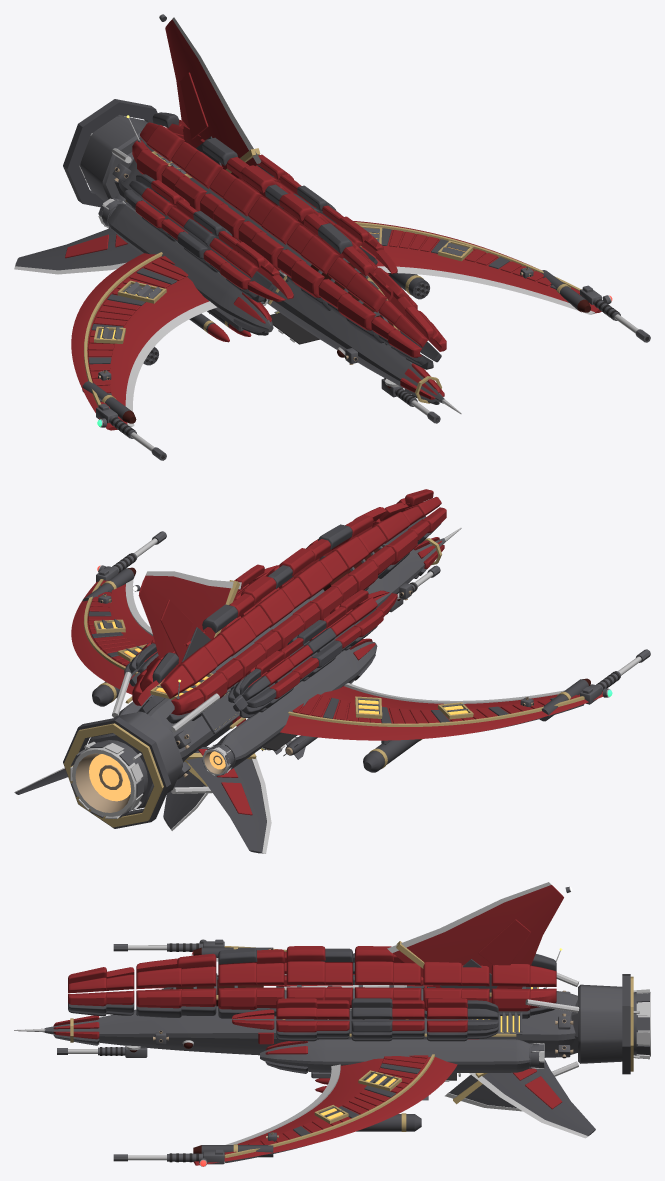
Rendered from enemy_fighter_c.glb.
3 views of the same model, one above another, from view 1: azimuth 30°, elevation 25°; view 2: azimuth 150°, elevation 25°; view 3: azimuth 270°, elevation 25° (orthographic). The views are drawn at different scales.
Parts seen in each view (by area): view 1: enemy_fighter_c; view 2: enemy_fighter_c; view 3: enemy_fighter_c.
Boxes of the visible parts, left/top/right/bottom form: enemy_fighter_c: left=14, top=14, right=650, bottom=460; enemy_fighter_c: left=14, top=489, right=650, bottom=853; enemy_fighter_c: left=14, top=882, right=650, bottom=1166.
Size of the model in its own units: 7.73 by 3.81 by 9.32.
